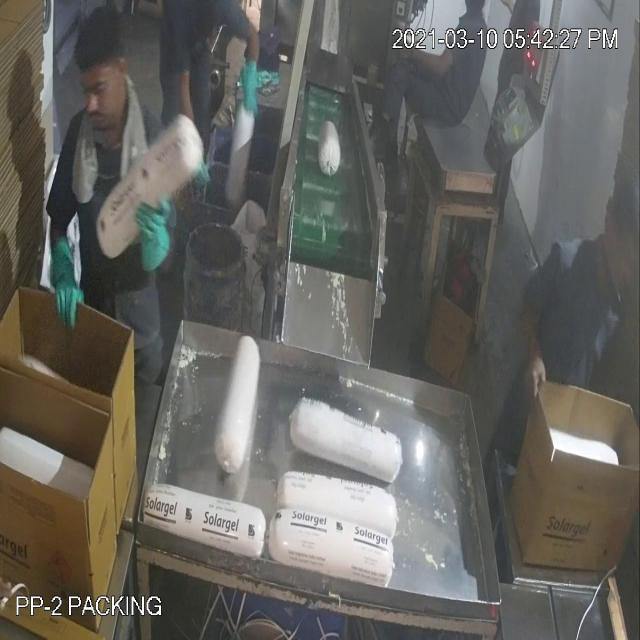gloves: (36, 220, 90, 342), (127, 190, 181, 304)
no-gloves: (518, 282, 550, 409), (392, 40, 458, 79)
